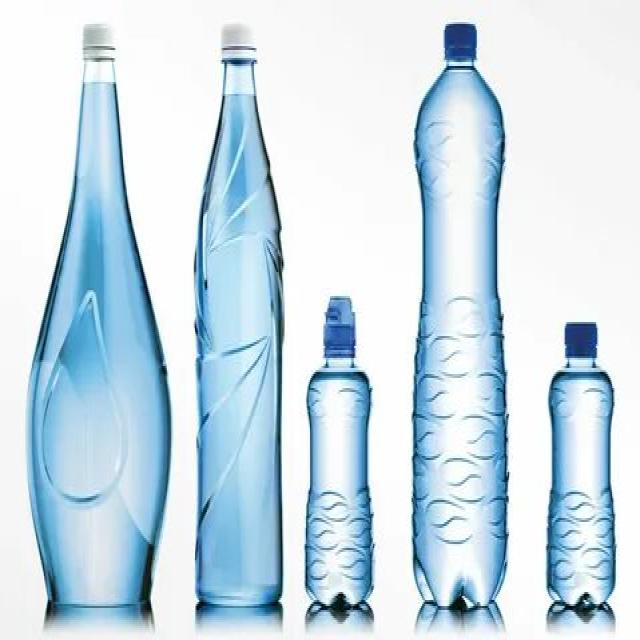blue: (24, 58, 172, 612), (412, 57, 509, 610), (194, 55, 284, 612), (546, 355, 616, 610), (304, 354, 373, 608)
